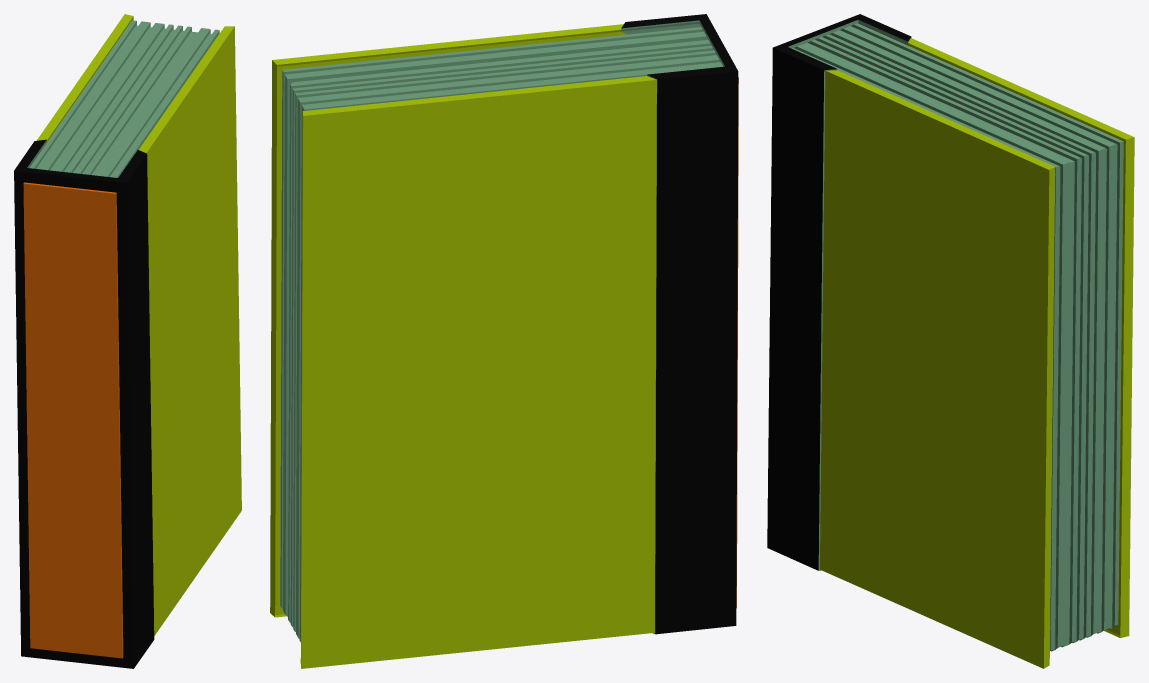
The model's file is TopShelfBook2.fbx.
The picture shows the model from 3 angles, left to right: view 1: azimuth 30°, elevation 25°; view 2: azimuth 150°, elevation 25°; view 3: azimuth 270°, elevation 25°; orthographic projection. The views are drawn at different scales.
Visible parts, largest first — view 1: Book.021; view 2: Book.021; view 3: Book.021.
Boxes of the visible parts, x1=… form: Book.021: x1=14, y1=14, x2=241, y2=668; Book.021: x1=270, y1=14, x2=738, y2=668; Book.021: x1=767, y1=14, x2=1134, y2=668.
Bounding box in the file's own units: 120 × 175 × 117.
